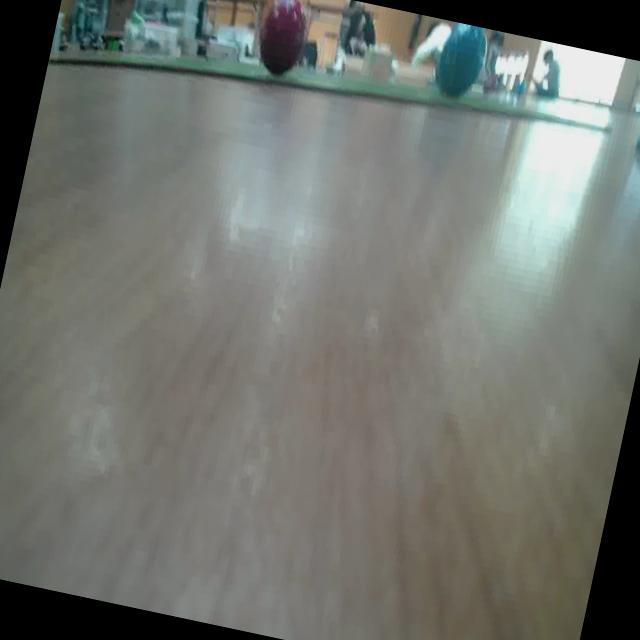blue_ball: (424, 18, 512, 100)
red_ball: (245, 0, 317, 76)
